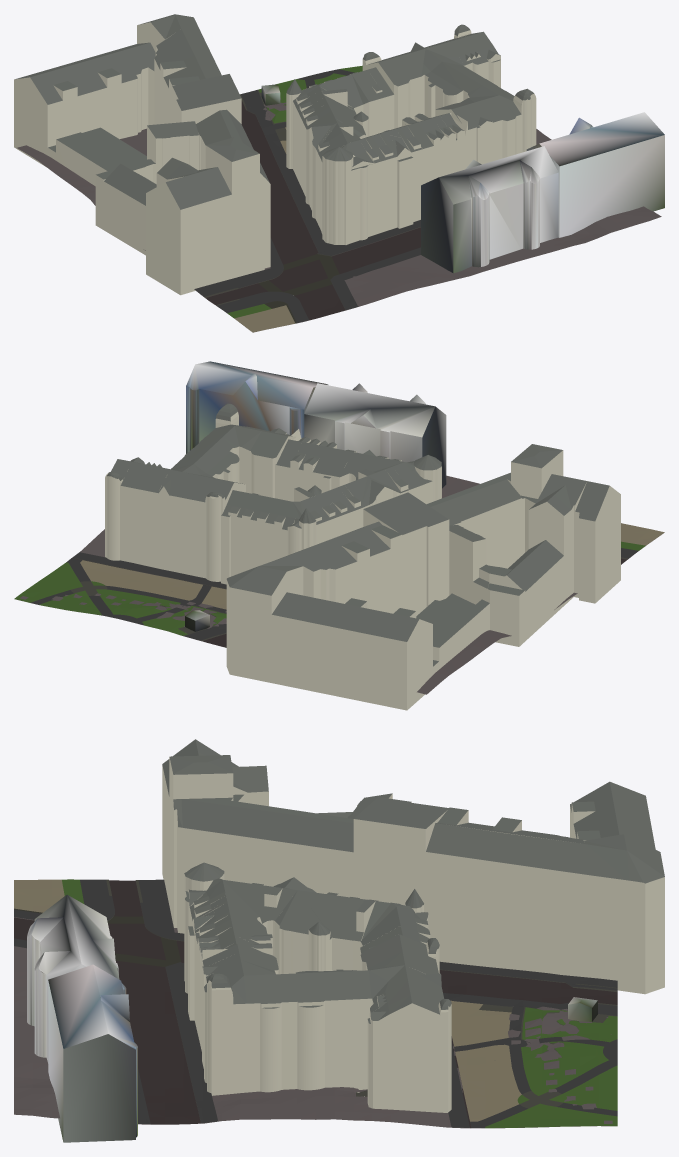
3 views of the same model, one above another, from view 1: azimuth 30°, elevation 25°; view 2: azimuth 150°, elevation 25°; view 3: azimuth 270°, elevation 25° (orthographic). The views are drawn at different scales.
Parts seen in each view (by area): view 1: c_m03_p09; view 2: c_m03_p09; view 3: c_m03_p09.
Boxes of the visible parts, x1,y1,x2,y2 form: c_m03_p09: (14, 14, 664, 332); c_m03_p09: (14, 361, 664, 710); c_m03_p09: (14, 739, 664, 1142).
Bounding box in the file's own units: 141 × 35.98 × 138.
